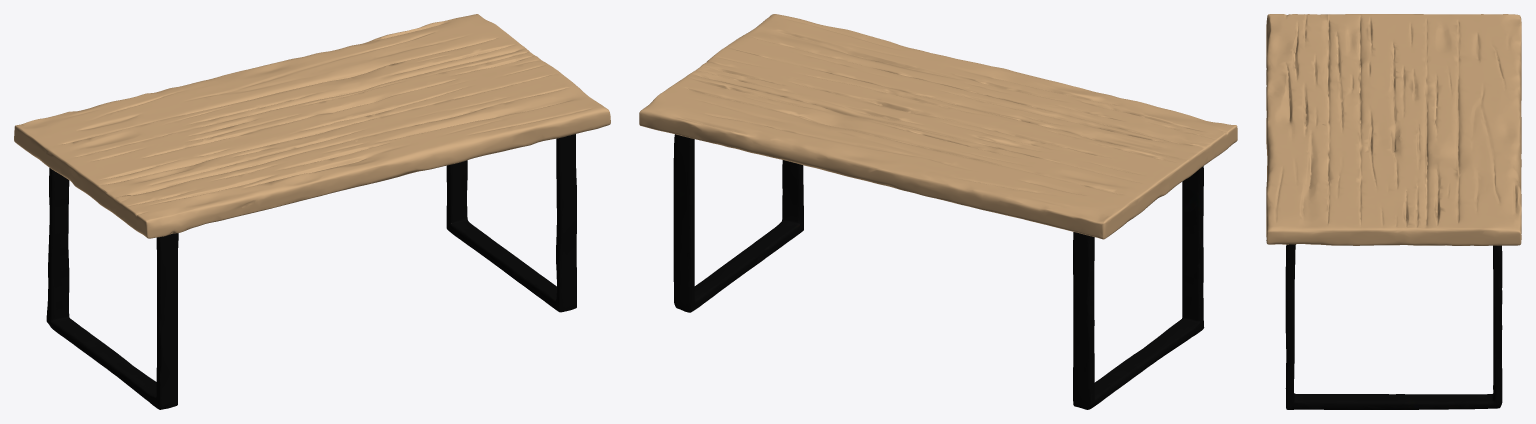
3 renders of one model, left to right at view 1: azimuth 30°, elevation 25°; view 2: azimuth 150°, elevation 25°; view 3: azimuth 270°, elevation 25°, orthographic. The views are drawn at different scales.
Visible parts, largest first — view 1: tripo_node_e6c5321e-5549-4648-91b9-9fd9516e7ec8; view 2: tripo_node_e6c5321e-5549-4648-91b9-9fd9516e7ec8; view 3: tripo_node_e6c5321e-5549-4648-91b9-9fd9516e7ec8.
Part boxes in pixels (<box>): tripo_node_e6c5321e-5549-4648-91b9-9fd9516e7ec8: <box>14,14,610,409</box>; tripo_node_e6c5321e-5549-4648-91b9-9fd9516e7ec8: <box>639,14,1237,409</box>; tripo_node_e6c5321e-5549-4648-91b9-9fd9516e7ec8: <box>1266,14,1521,409</box>.
Bounding box in the file's own units: 1.8 × 0.75 × 0.9001.
Materials: 2 (1 with a texture image).
